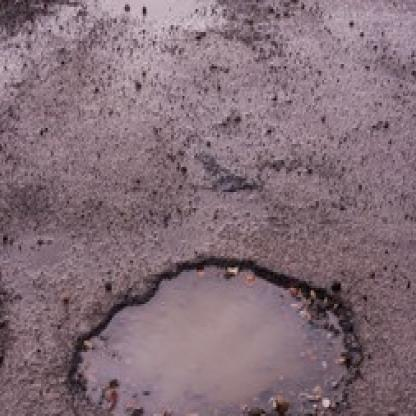pothole: (64, 256, 368, 416)
